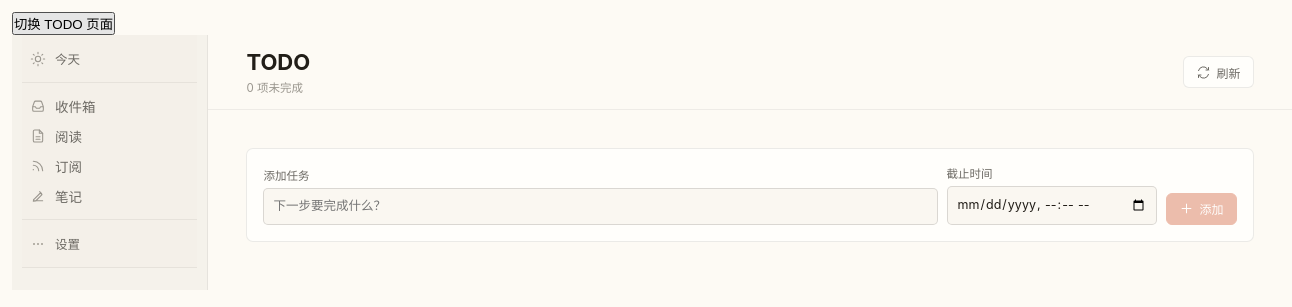
TodoSurface › creates a due TODO and publishes one shared change event after the authoritative response
Type "带截止时间的任务" into the field with placeholder "下一步要完成什么？" at (600,206), box [263,188,938,224]
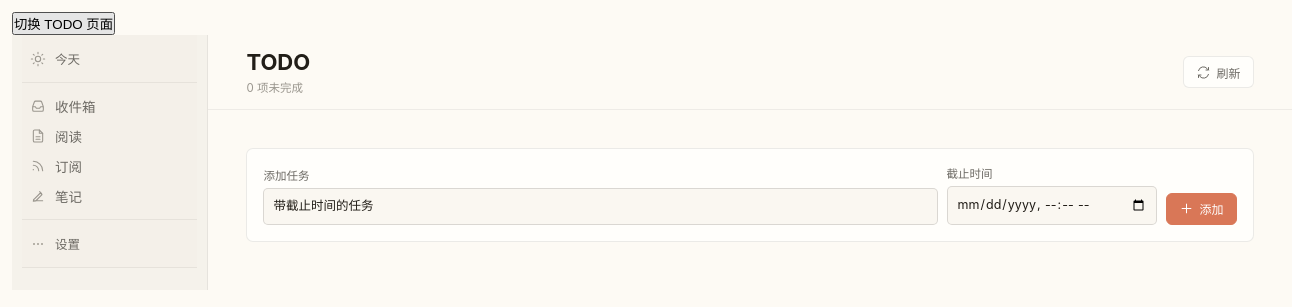
Type "2026-08-12T03:45" into the field labelled "截止时间" at (1052,205), box [947,186,1157,224]
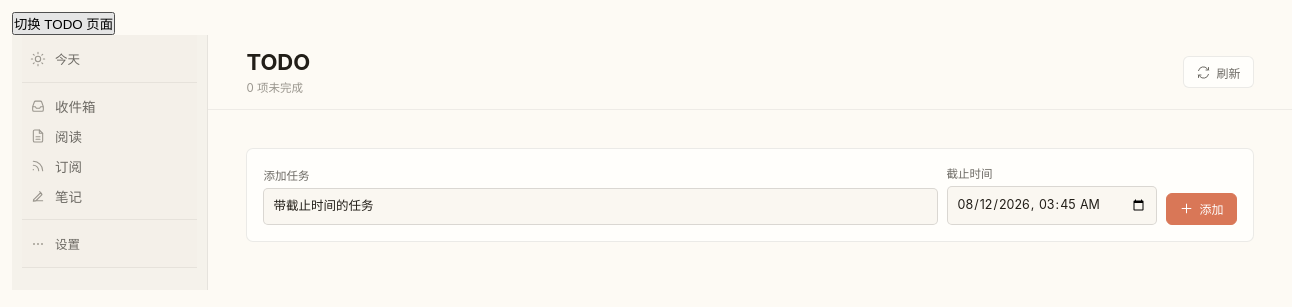
Click the button "添加" at (1201,208), box [1166,192,1237,224]
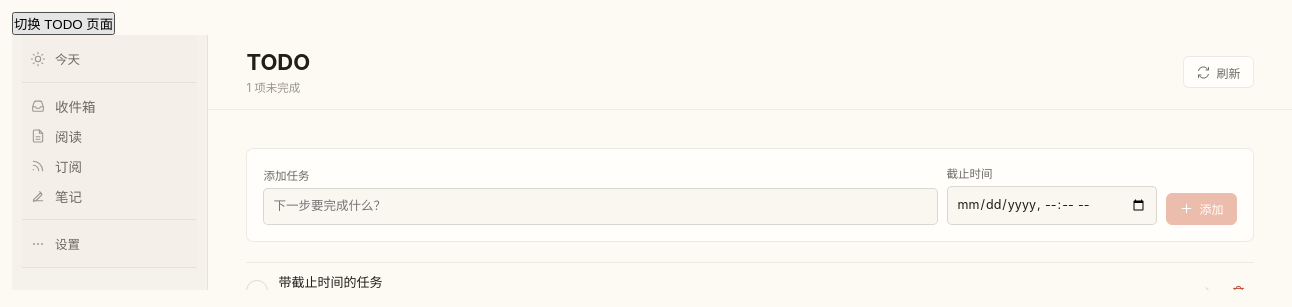
Expected: the button "带截止时间的任务" is shown, [278,272,382,290]
